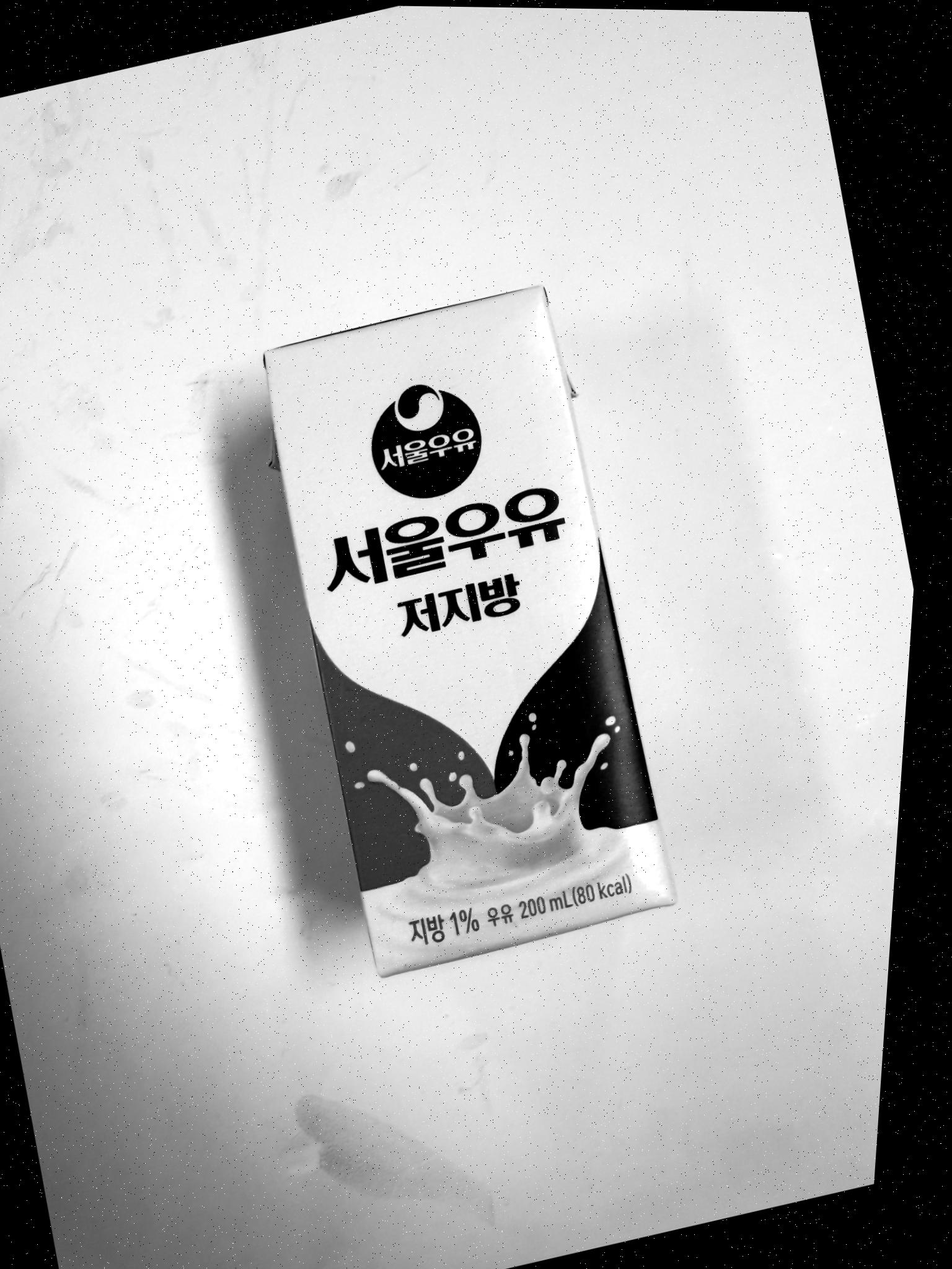milk_blue: (265, 288, 674, 976)
